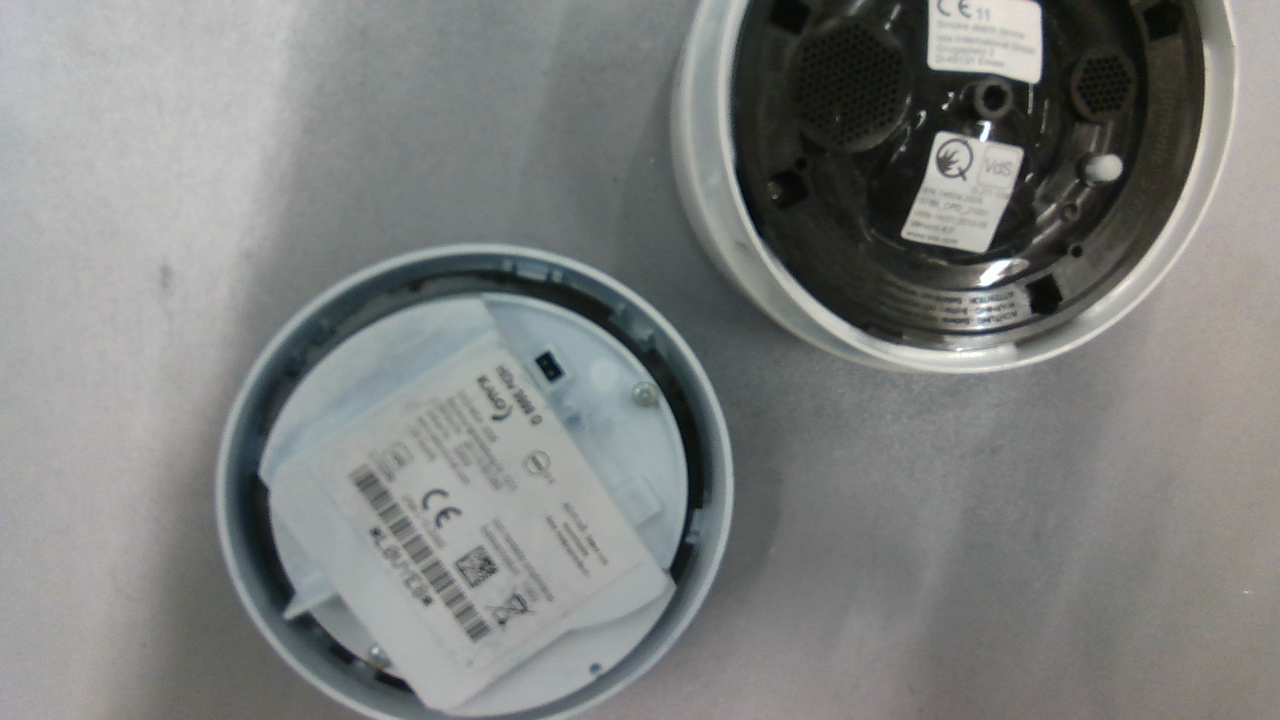HexScrew: (761, 181, 787, 208), (633, 383, 657, 412), (368, 643, 392, 669)
